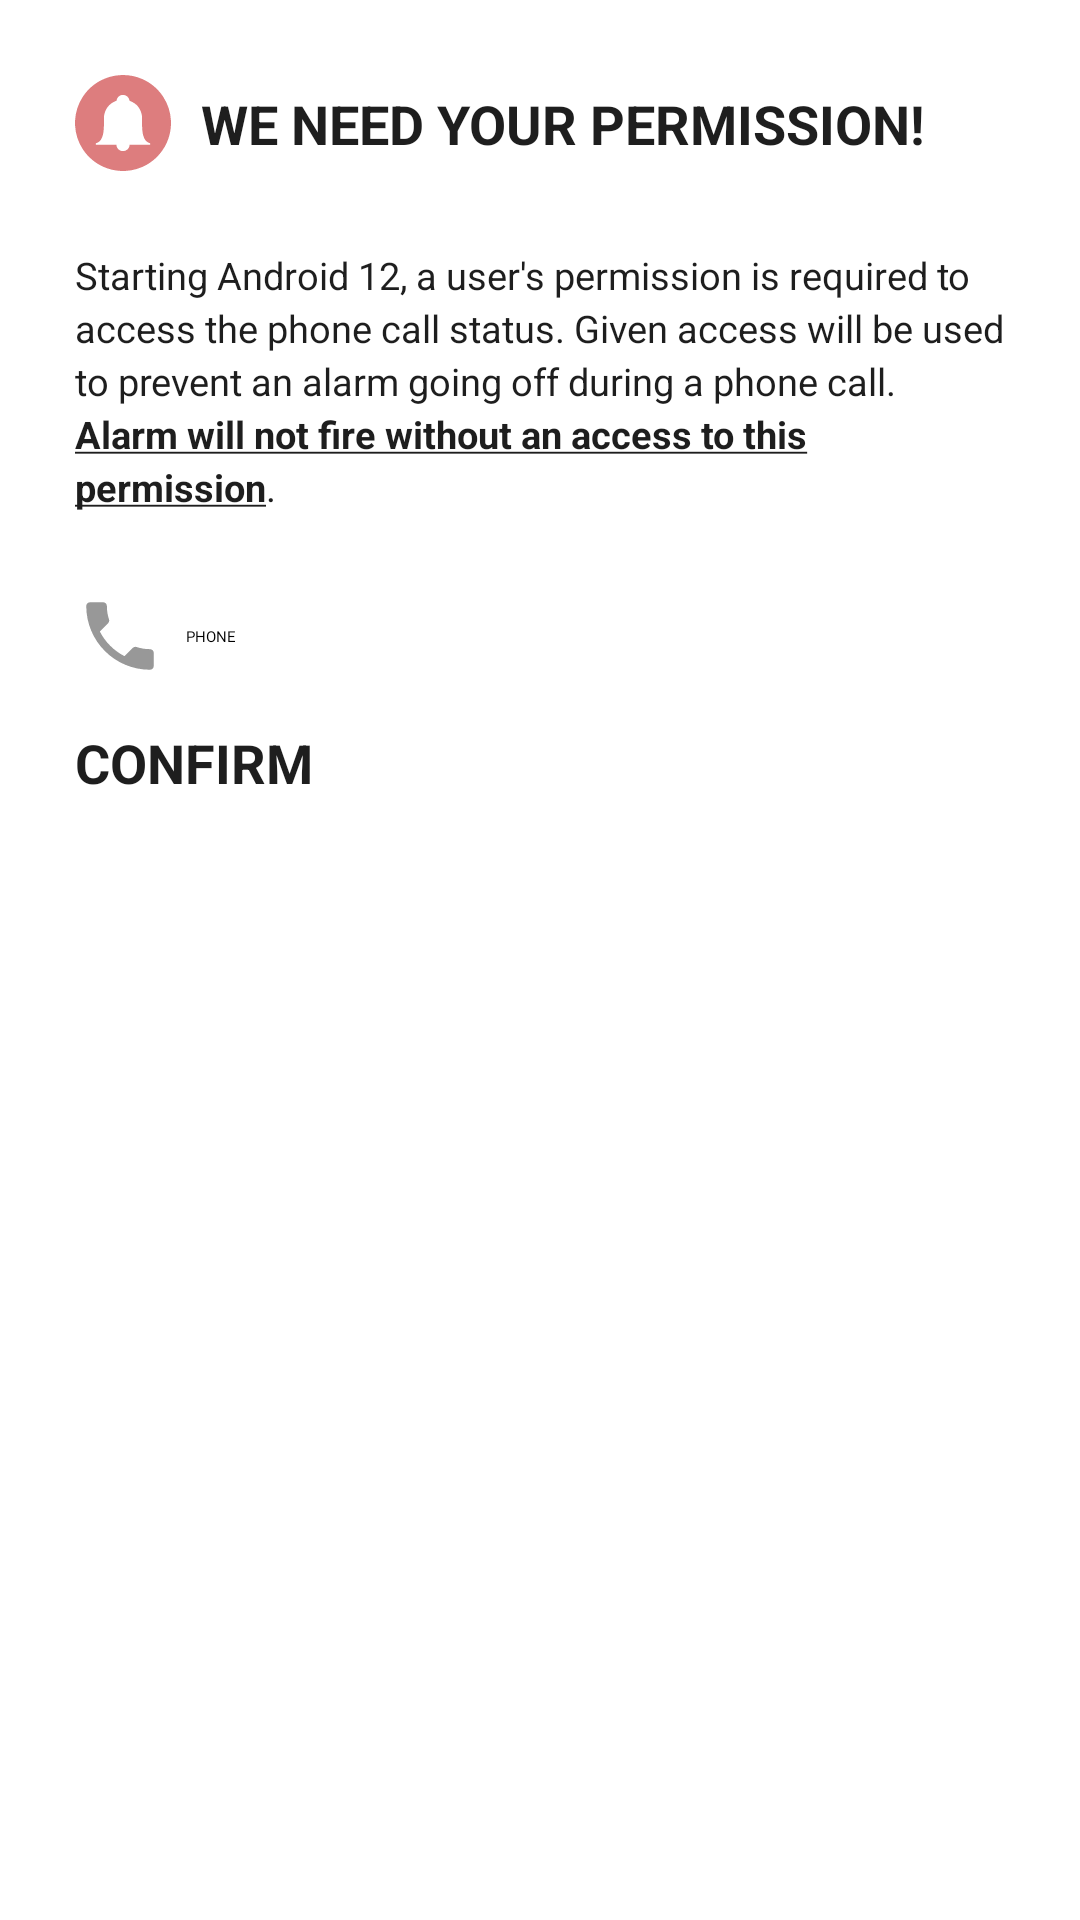

Where icons sit on this 1080 × 1920 app screen, as (left=x1, top=y1, right=x2, bottom=y2):
alarm on: (left=75, top=75, right=171, bottom=171)
